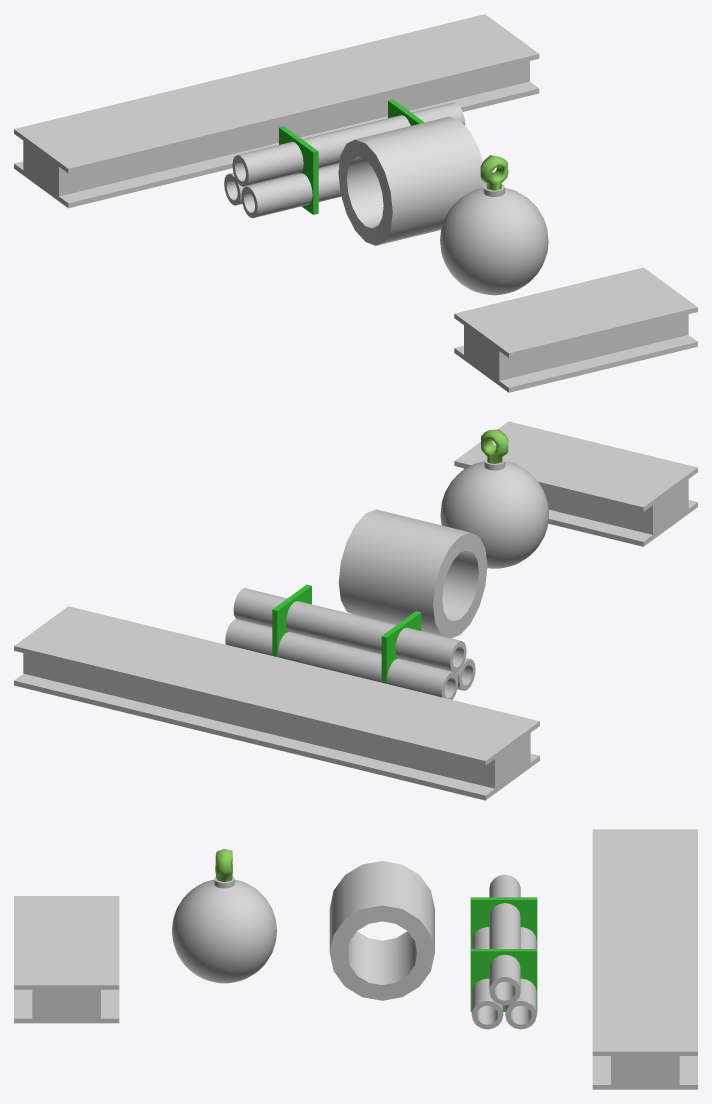
File: FallingShit.fbx
The picture shows the model from 3 angles, top to bottom: view 1: azimuth 30°, elevation 25°; view 2: azimuth 150°, elevation 25°; view 3: azimuth 270°, elevation 25°; orthographic projection. The views are drawn at different scales.
Parts seen in each view (by area): view 1: Cube, Cube.001, Cylinder, Sphere, Cylinder.001; view 2: Cube, Cylinder.001, Cube.001, Cylinder, Sphere; view 3: Cube, Cube.001, Cylinder, Cylinder.001, Sphere.
Boxes of the visible parts, x1,y1,x2,y2 form: Cube: (14,14,539,208); Cube.001: (454,267,697,392); Cylinder: (338,116,486,245); Sphere: (440,155,548,295); Cylinder.001: (224,99,465,218); Cube: (14,606,539,800); Cylinder.001: (225,584,475,699); Cube.001: (454,421,697,546); Cylinder: (338,509,487,638); Sphere: (440,429,548,568); Cube: (592,829,697,1089); Cube.001: (14,896,119,1023); Cylinder: (329,861,434,1000); Cylinder.001: (470,874,537,1029); Sphere: (172,849,276,983).
Size of the model in its own units: 10 by 2.79 by 13.
